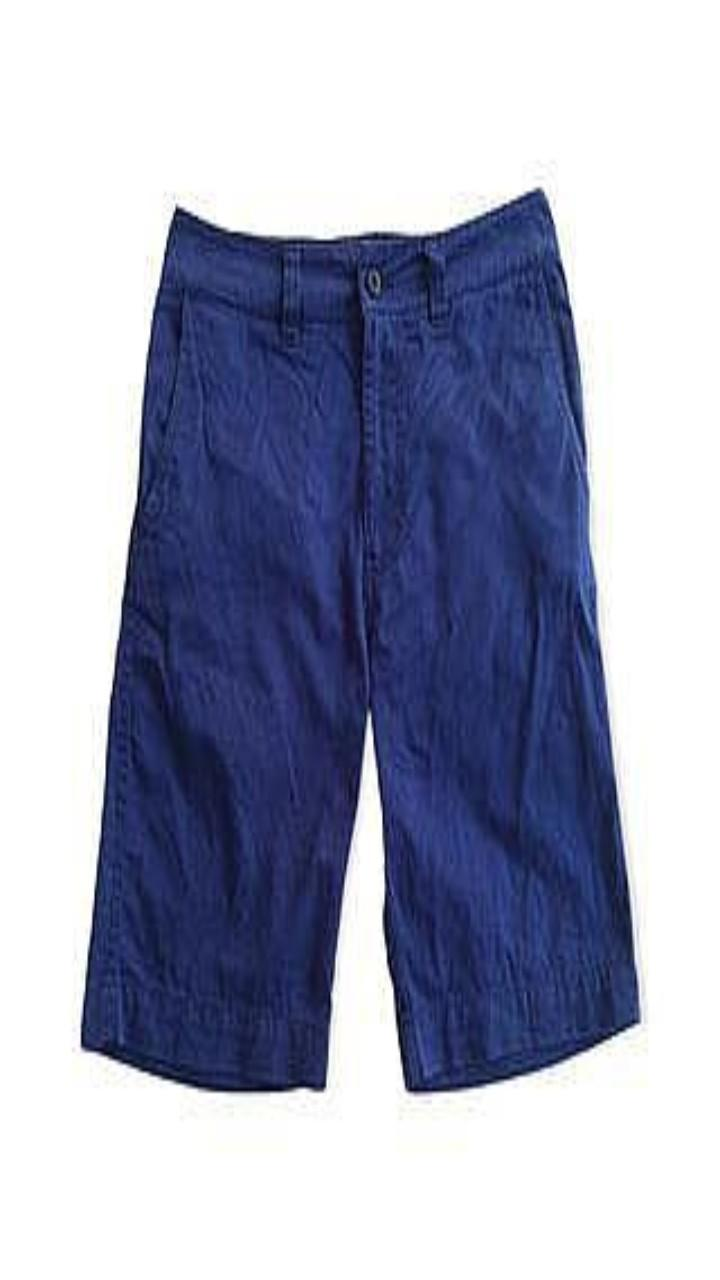Shorts: (83, 193, 638, 1089)
